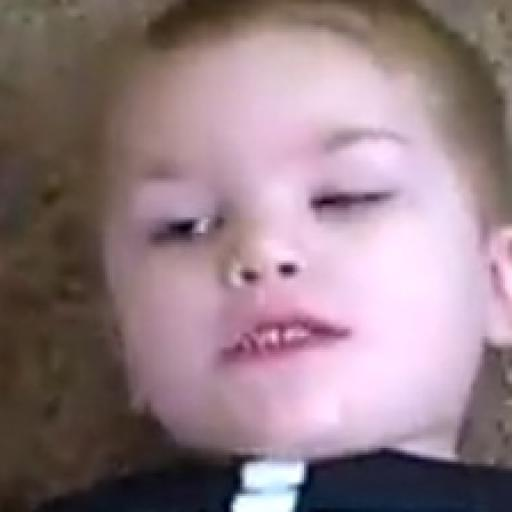Autism: (87, 8, 512, 471)
